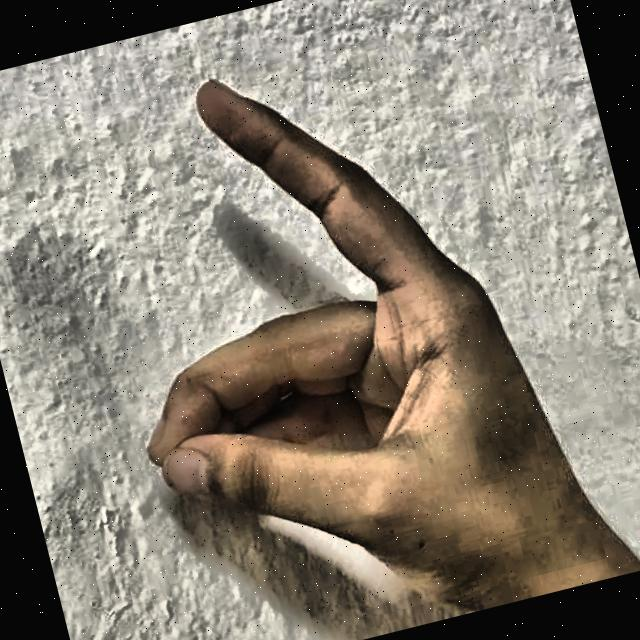Dha: (34, 0, 640, 640)
